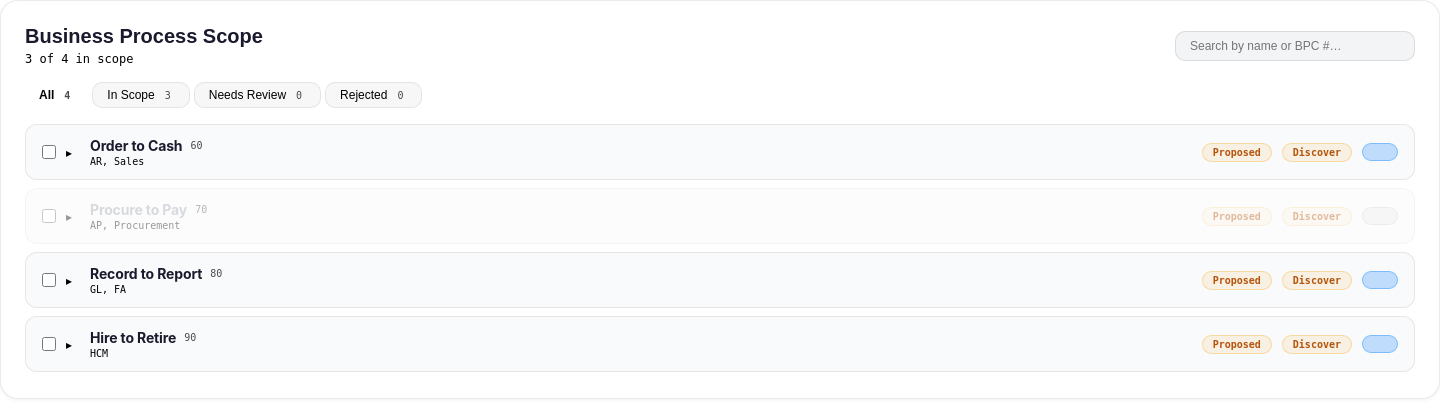
BusinessProcessPage Review UX › Slide-over detail panel › closes on close button click
What coordinates should you click on to do the following:
click the element with test id "process-name-e1"
I would click on:
 (146, 152)
Its box is [90,137,202,167].
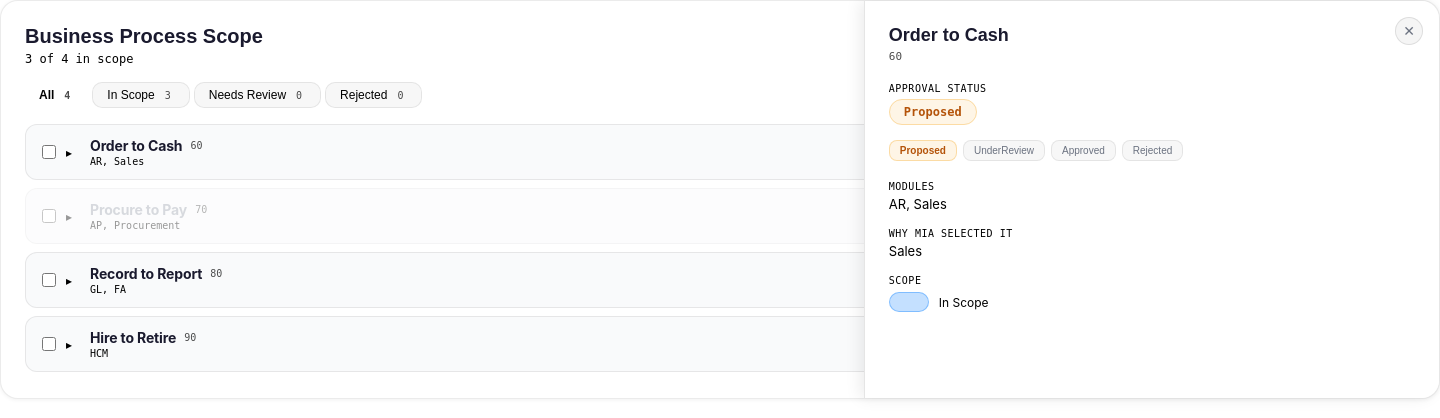
Result: the element with test id "detail-panel" is shown at [864,1,1439,398]
What coordinates should you click on to do the following:
click the button with test id "detail-close"
I would click on:
 (1409, 31)
Its box is [1395,17,1423,45].
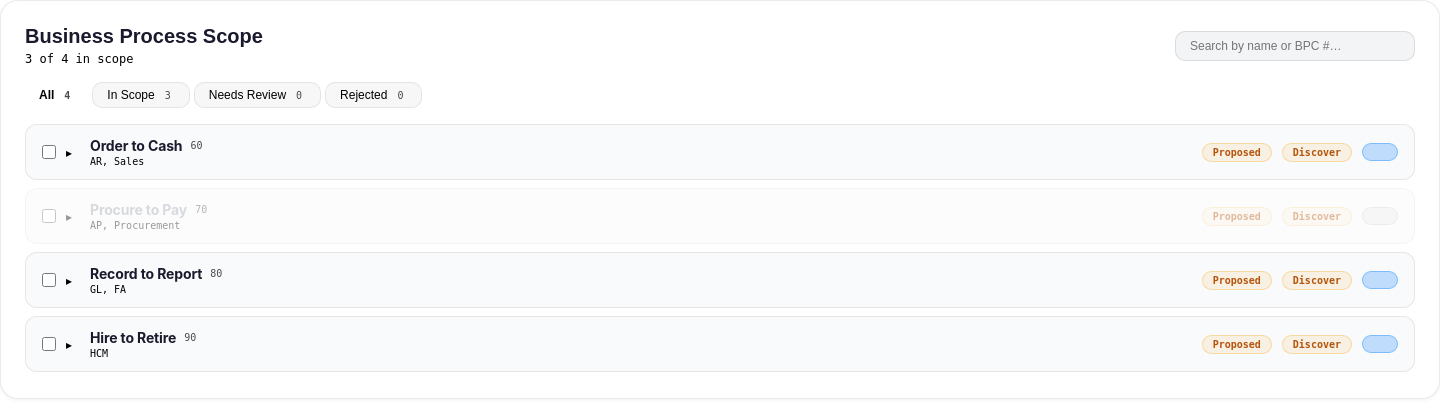
Result: the element with test id "detail-panel" is gone
